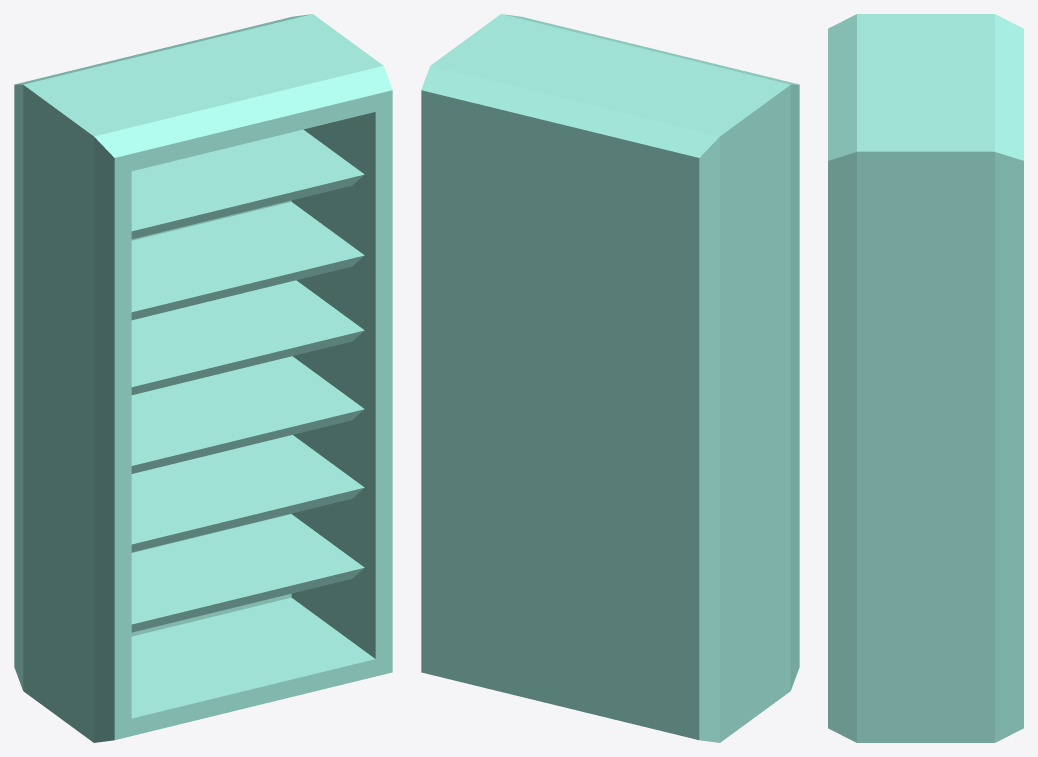
The model's file is Bookshelf_MOD.fbx.
The picture shows the model from 3 angles, left to right: view 1: azimuth 30°, elevation 25°; view 2: azimuth 150°, elevation 25°; view 3: azimuth 270°, elevation 25°; orthographic projection. The views are drawn at different scales.
Parts seen in each view (by area): view 1: Cube; view 2: Cube; view 3: Cube.
Boxes of the visible parts, bbox=[...] form: Cube: bbox=[14, 14, 392, 742]; Cube: bbox=[421, 14, 799, 742]; Cube: bbox=[828, 14, 1023, 742].
Bounding box in the file's own units: 100 × 200 × 60.
